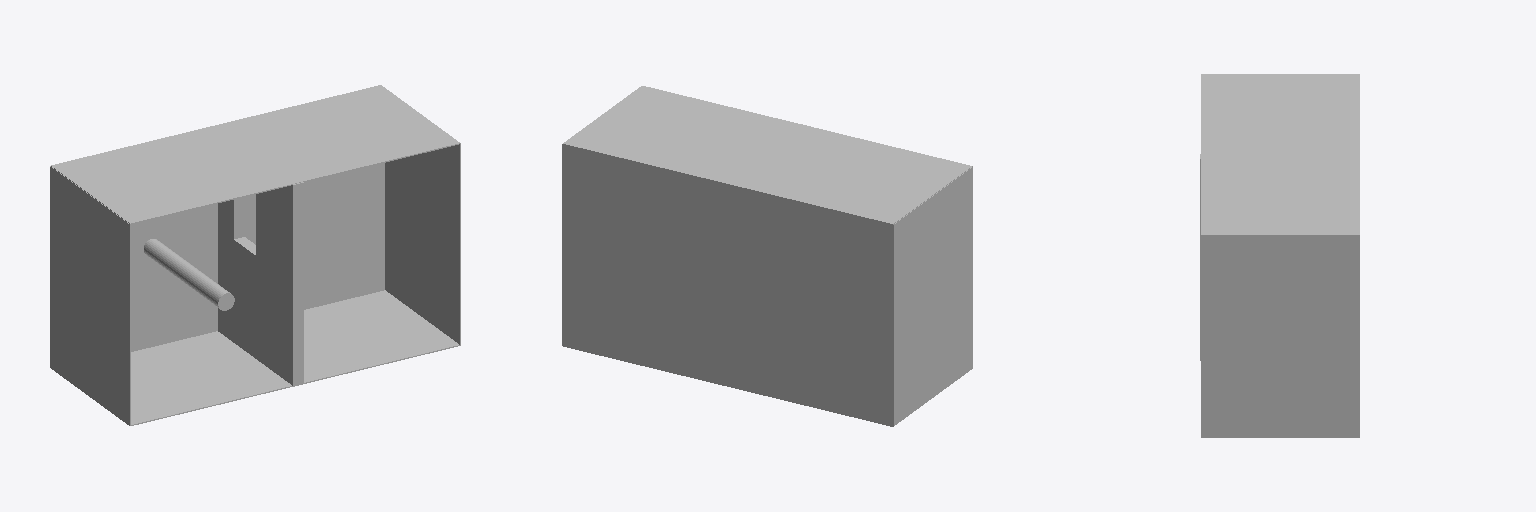
File: LAAS_indoor_window_pilar.obj
The picture shows the model from 3 angles: view 1: azimuth 30°, elevation 25°; view 2: azimuth 150°, elevation 25°; view 3: azimuth 270°, elevation 25°; orthographic projection.
Parts seen in each view (by area): view 1: Wall3_Cube.004, Floor_Cube.001, Wall4_Cube.005, Wall2_Cube.003, Wall1_Cube.002, Wall_L.002_Cube.009, Wall_T.001_Cube.006, Cylinder, Wall_R.001_Cube.007, Wall_B.001_Cube.008; view 2: Floor_Cube.001, Wall3_Cube.004, Wall2_Cube.003, Wall_L.002_Cube.009; view 3: Wall1_Cube.002, Wall3_Cube.004.
Part boxes in pixels (x1,y1,x2,y2): Wall3_Cube.004: (51, 85, 460, 224); Floor_Cube.001: (131, 163, 384, 351); Wall4_Cube.005: (64, 290, 460, 425); Wall2_Cube.003: (50, 166, 130, 425); Wall1_Cube.002: (385, 144, 460, 344); Wall_L.002_Cube.009: (218, 228, 303, 386); Wall_T.001_Cube.006: (256, 194, 303, 282); Cylinder: (144, 239, 234, 310); Wall_R.001_Cube.007: (259, 182, 303, 219); Wall_B.001_Cube.008: (218, 197, 244, 238); Floor_Cube.001: (563, 145, 892, 425); Wall3_Cube.004: (563, 86, 972, 224); Wall2_Cube.003: (893, 167, 972, 426); Wall_L.002_Cube.009: (720, 281, 730, 386); Wall1_Cube.002: (1201, 236, 1359, 437); Wall3_Cube.004: (1201, 74, 1359, 235).
Bounding box in the file's own units: 6.02 × 3.52 × 2.52.